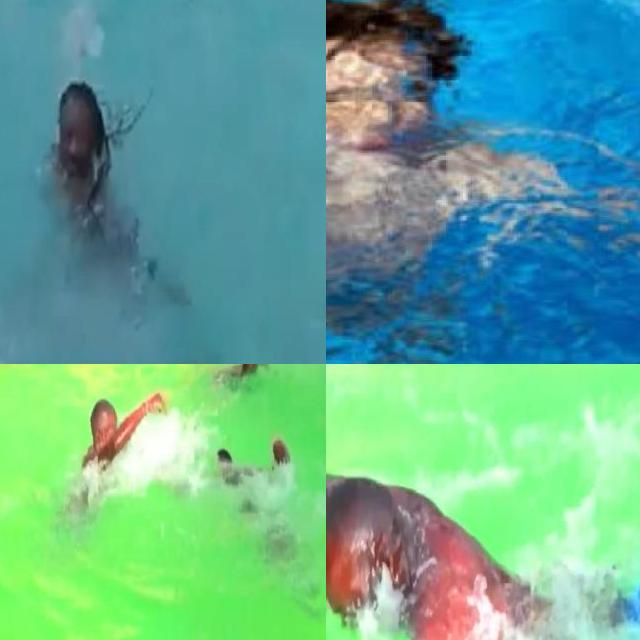drowning: (326, 0, 547, 338), (31, 37, 168, 307), (206, 431, 302, 555)
swimming: (326, 401, 640, 640), (63, 390, 165, 545), (200, 364, 274, 404), (9, 364, 115, 387)
